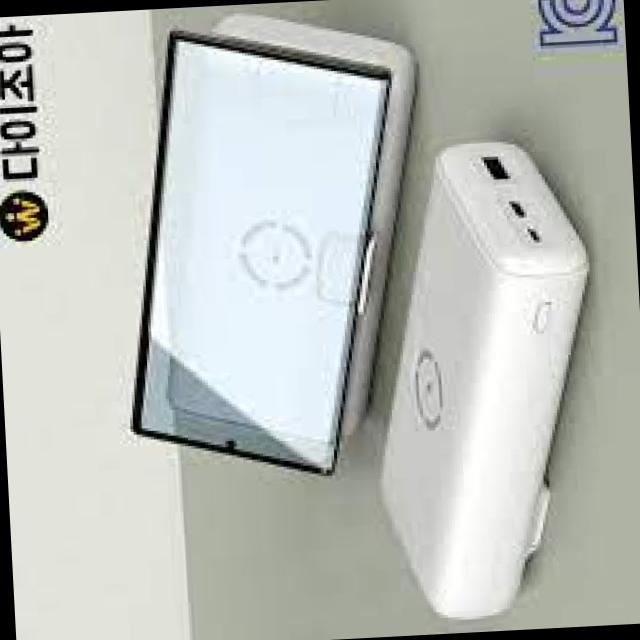portable-charger: (359, 128, 615, 636)
